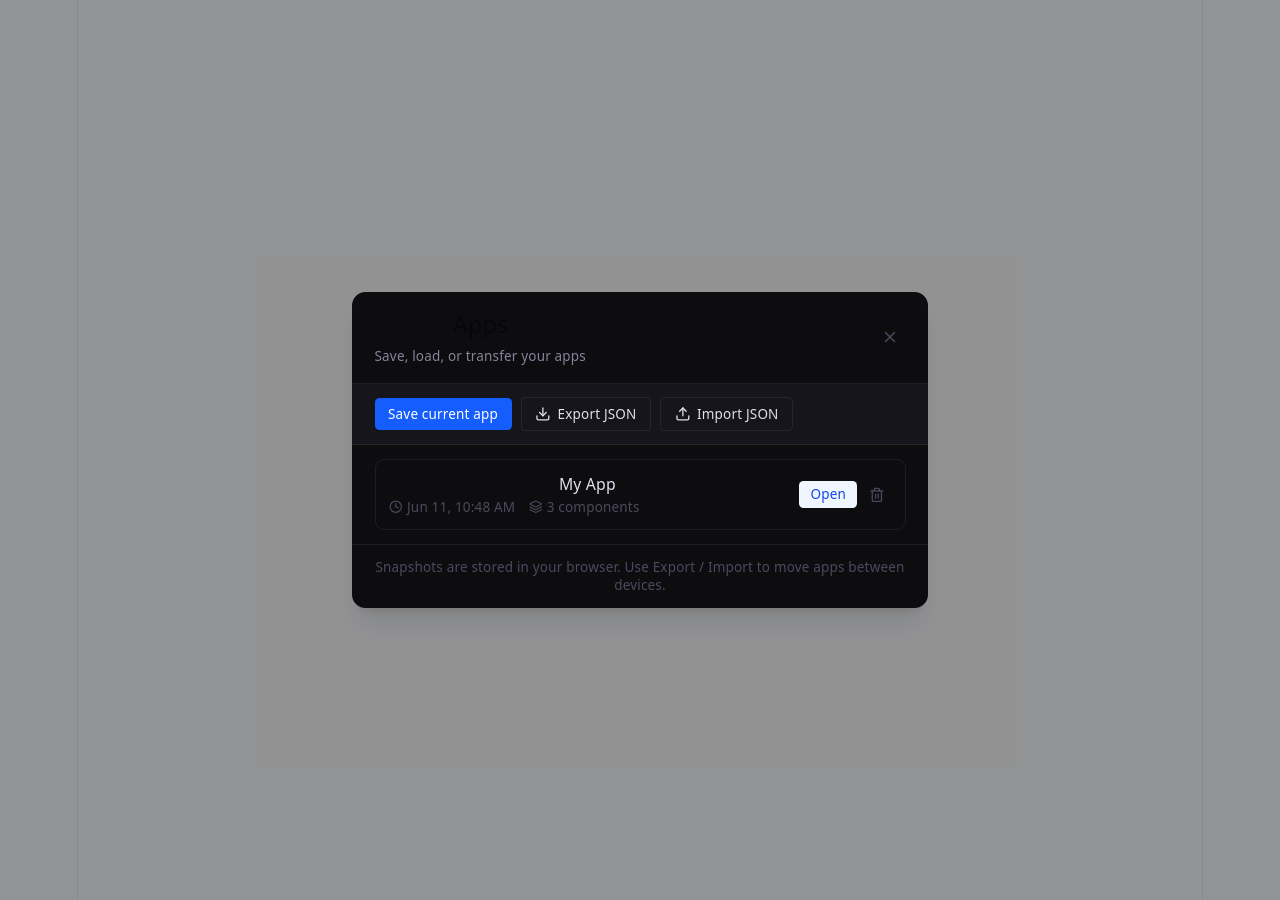
Test: delete button › refreshes the list after deletion
Expected: the text "My App" is shown, 559,473 -> 616,495
Click the button named "Delete My App" at coordinates (876, 494), box 862,480 -> 891,509
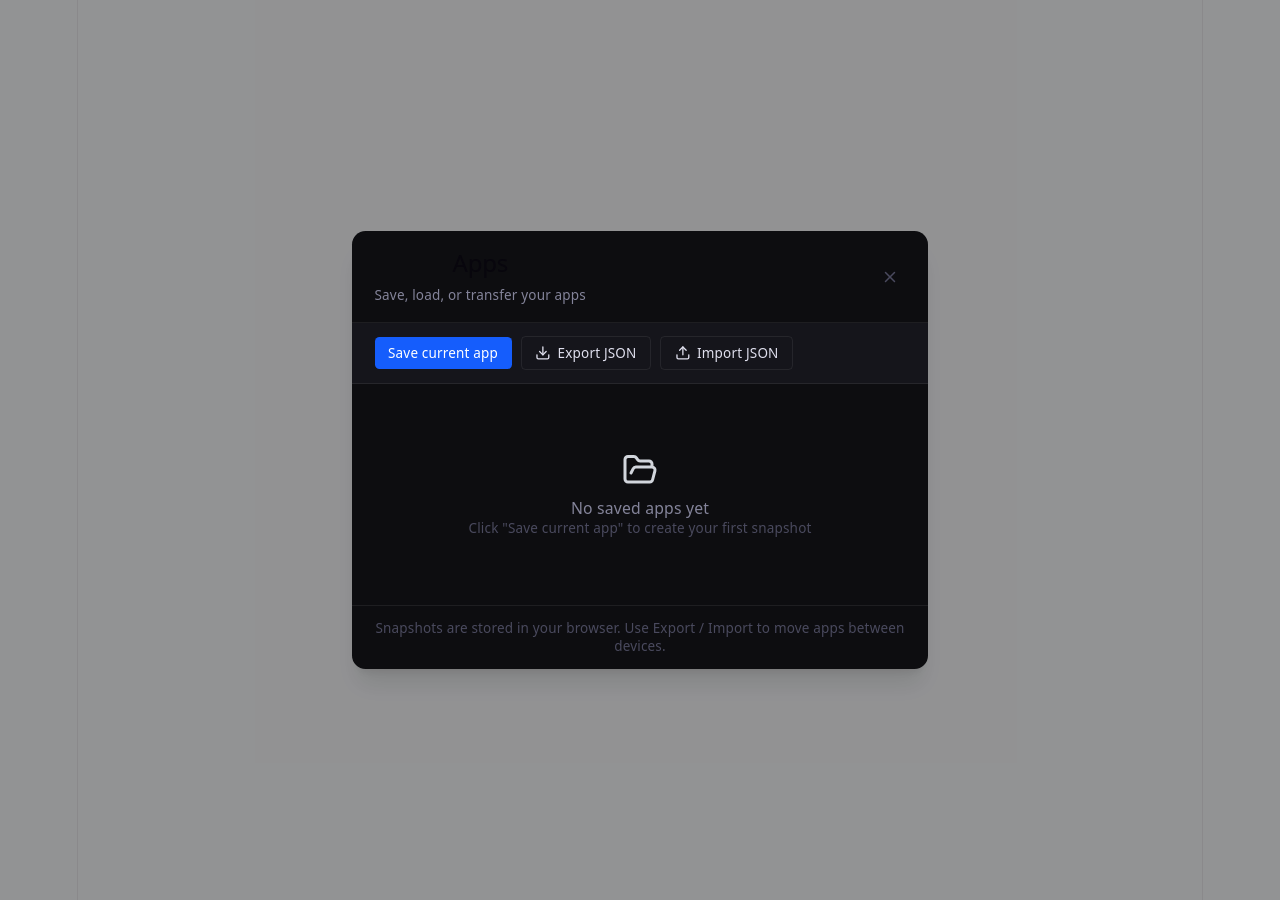
Expected: the text "My App" is gone
